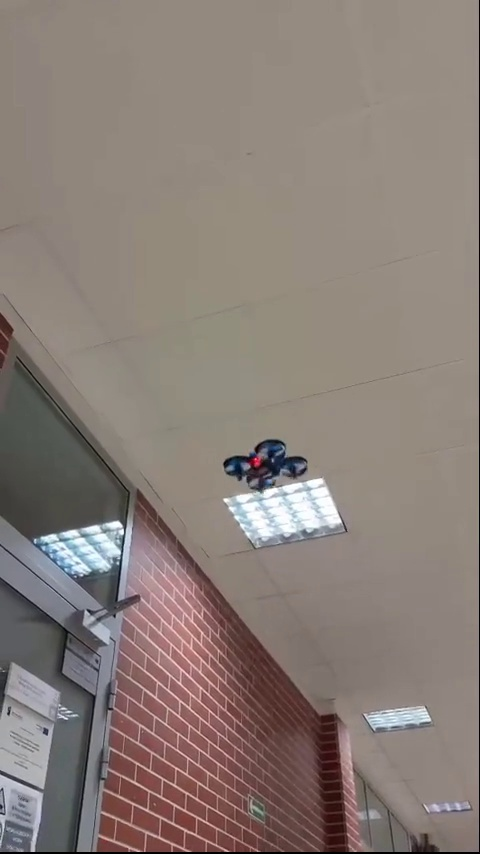drone: (222, 436, 307, 491)
